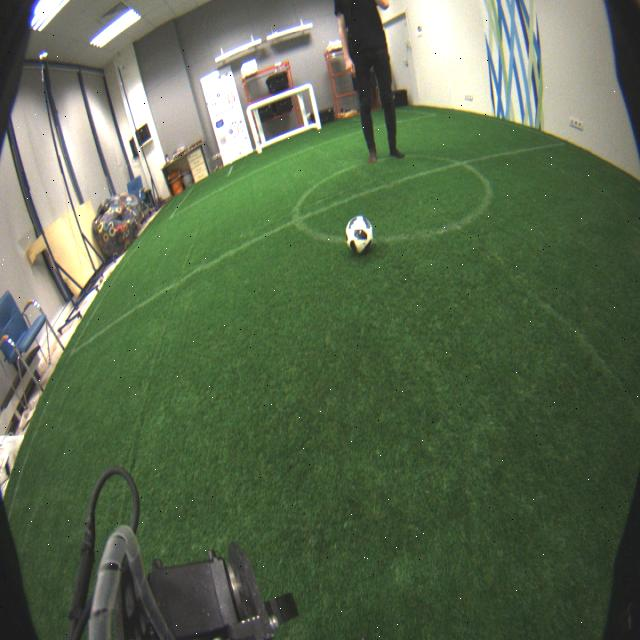ball: (345, 213, 374, 255)
goalpost: (244, 105, 264, 154), (305, 84, 323, 130)
